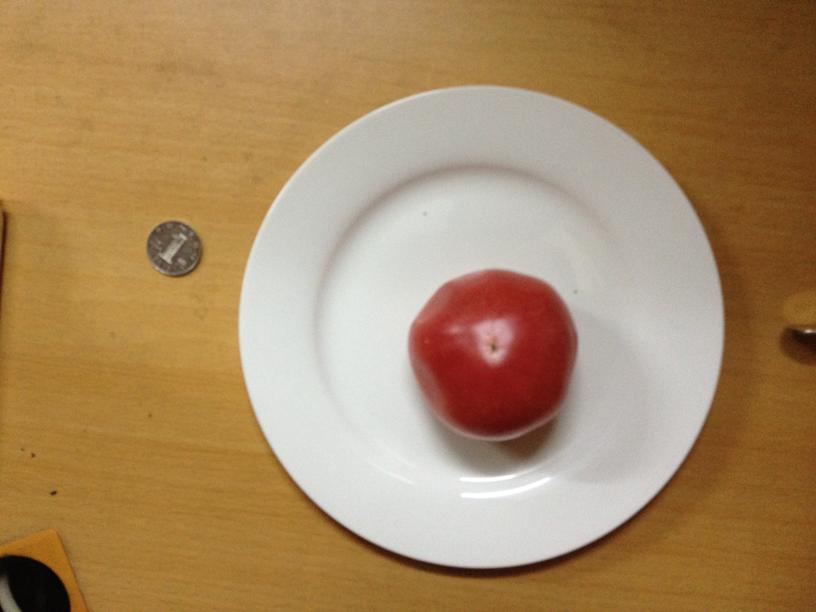coin: (139, 217, 204, 276)
tomato: (400, 274, 580, 442)
